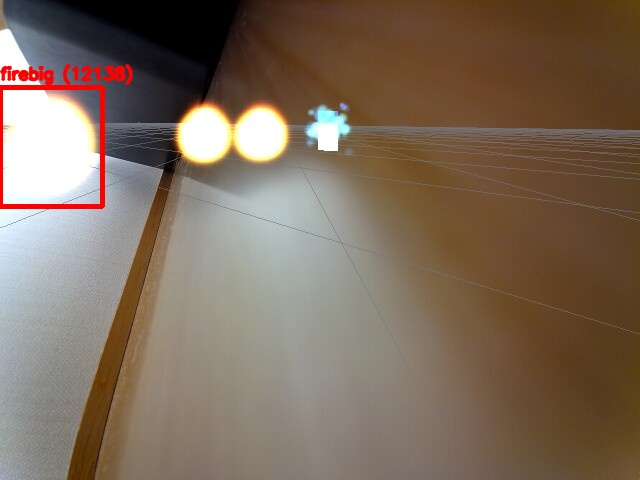firebig: (0, 87, 102, 206)
